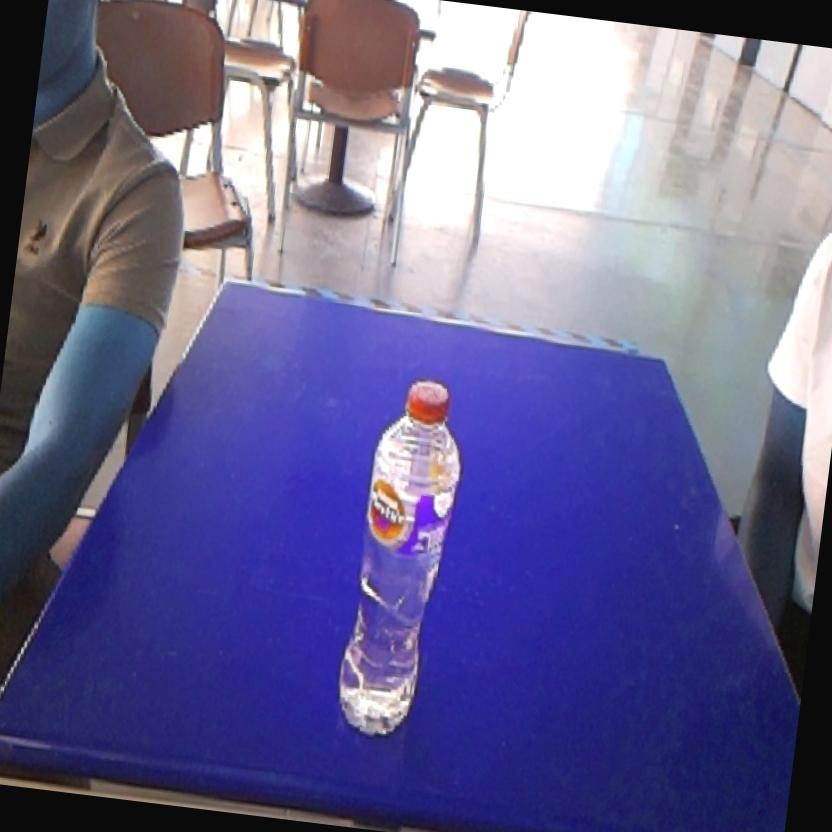good: (325, 360, 478, 752)
